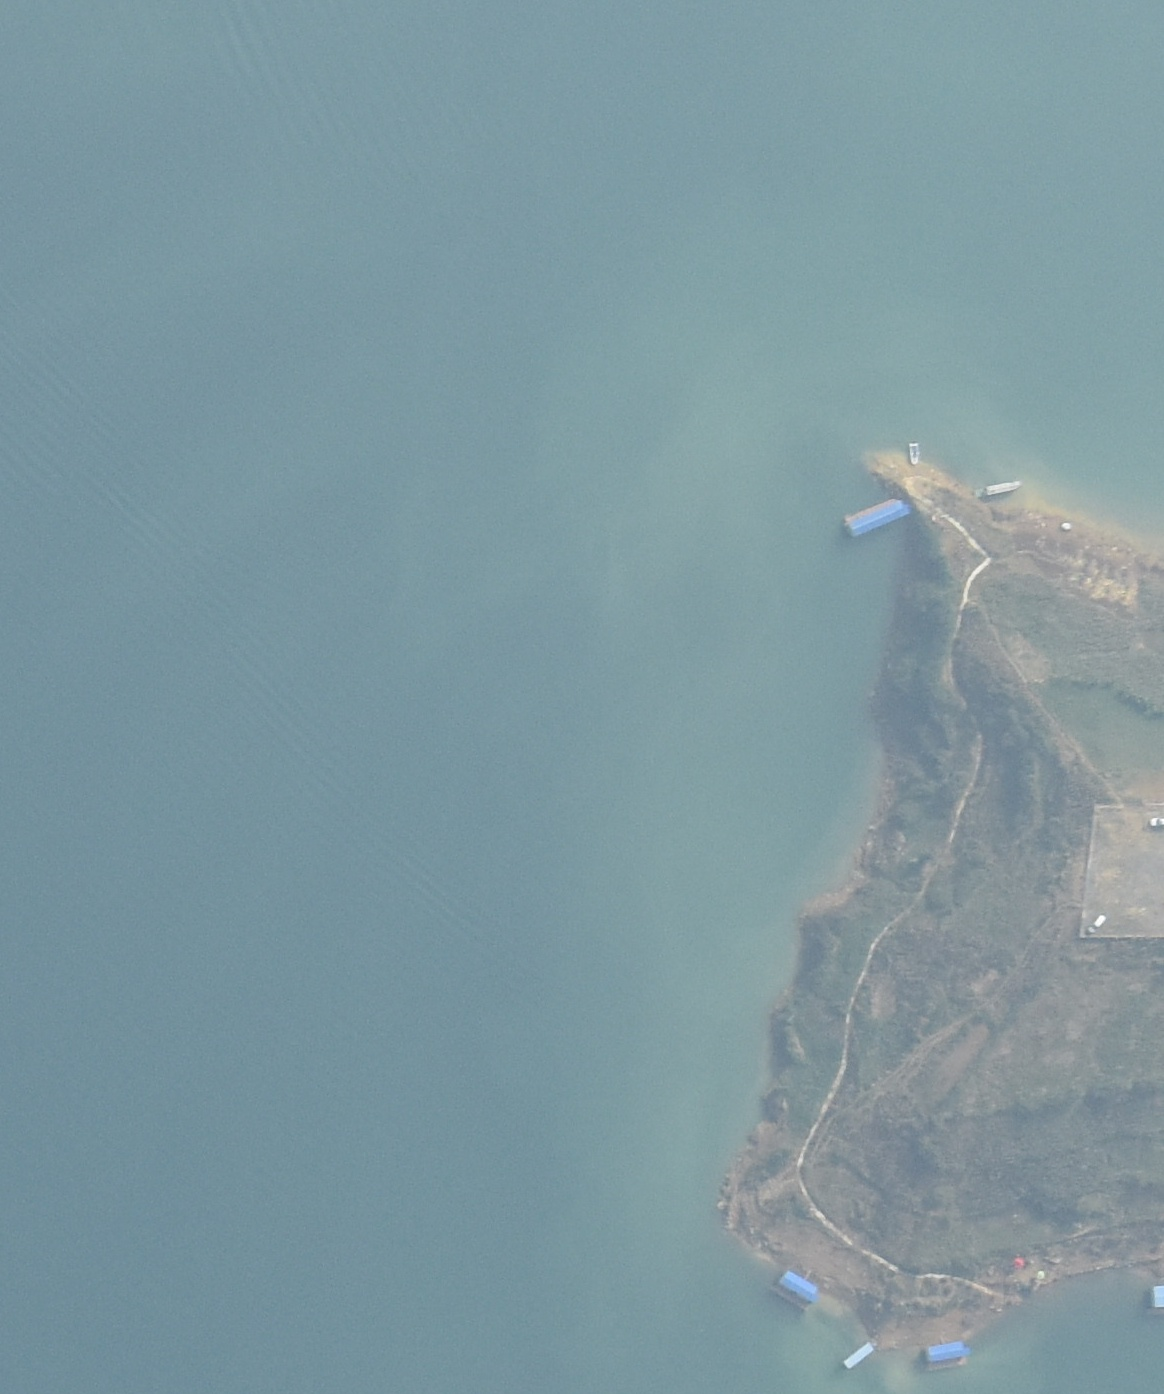prefabricated-house: (842, 497, 918, 536), (773, 1263, 830, 1311), (830, 1337, 883, 1370), (913, 1342, 980, 1364)
ship: (972, 476, 1031, 502), (905, 441, 930, 467)
vehicle: (1088, 911, 1111, 932)
